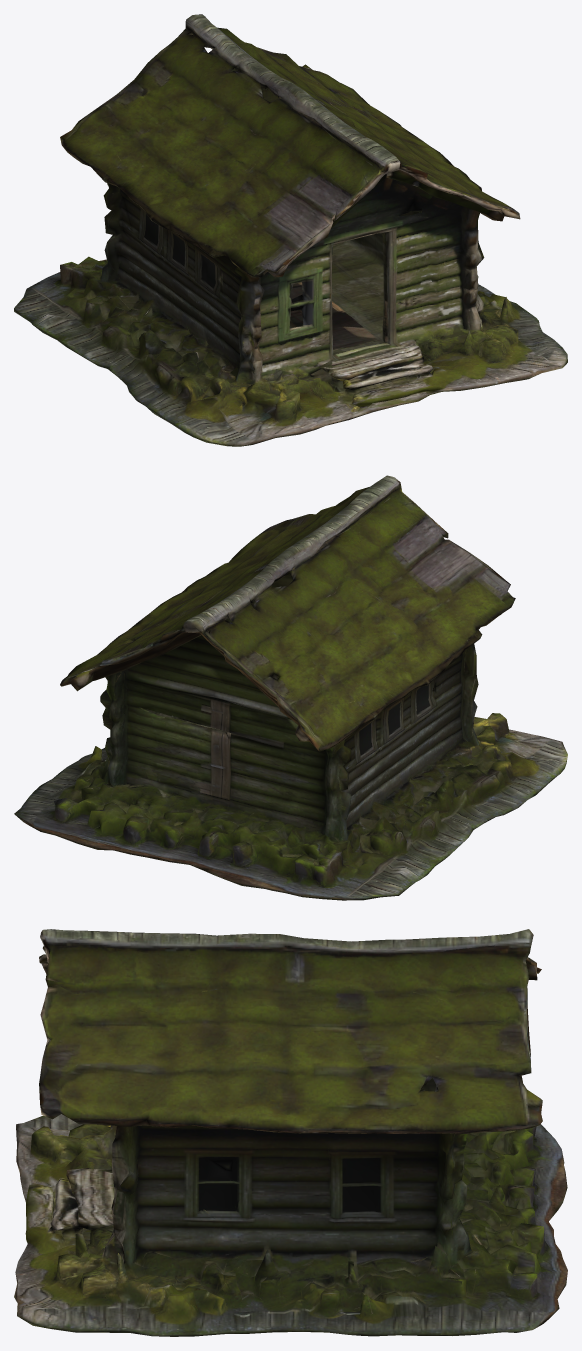
The model's file is Meshy_AI_3D_model_of_an_abando_0130175528_texture.glb.
The picture shows the model from 3 angles, top to bottom: view 1: azimuth 30°, elevation 25°; view 2: azimuth 150°, elevation 25°; view 3: azimuth 270°, elevation 25°; orthographic projection. The views are drawn at different scales.
Size of the model in its own units: 1.95 by 1.18 by 1.99.
Materials: 1 (1 with a texture image).
